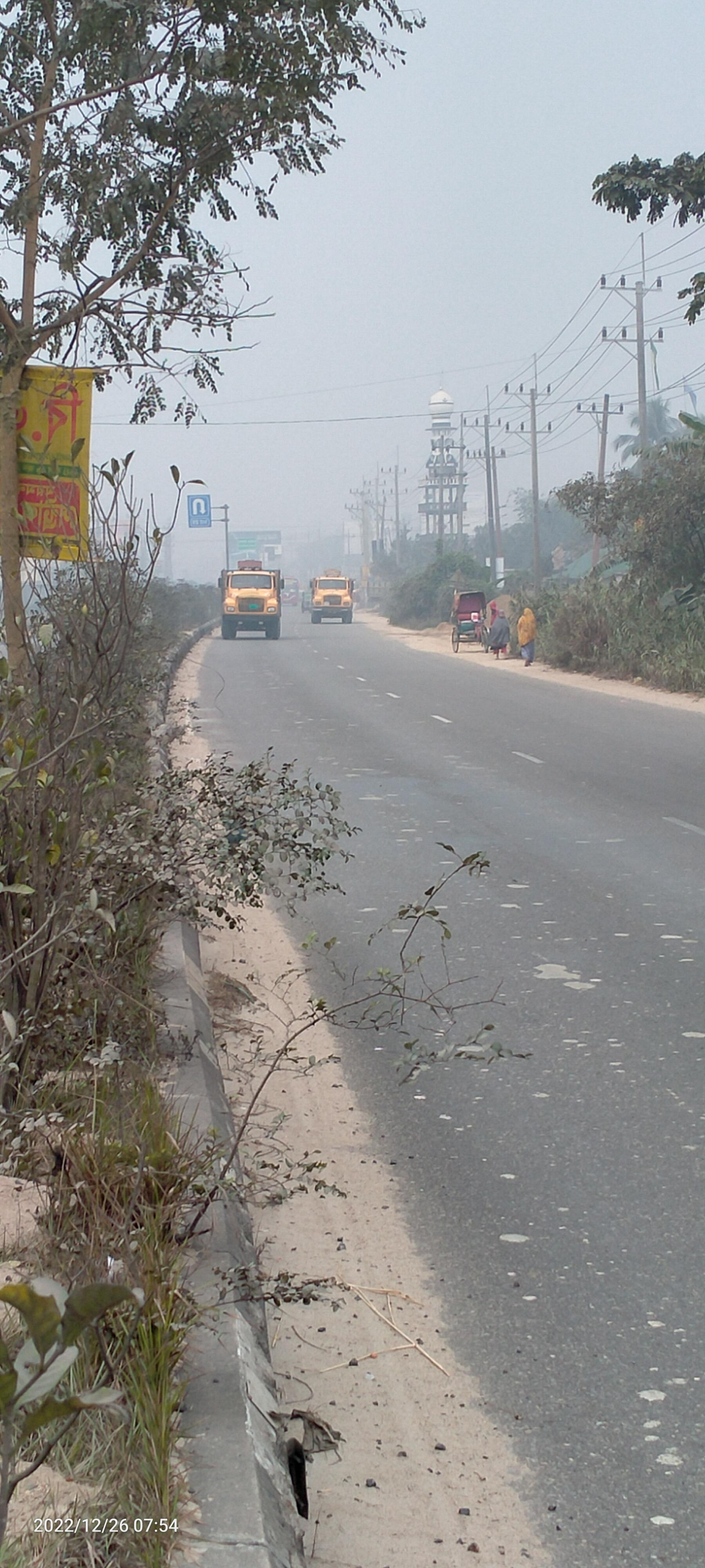Bus: (278, 570, 303, 612)
Car: (448, 587, 498, 659)
Truck: (217, 557, 285, 642), (307, 566, 358, 628)
